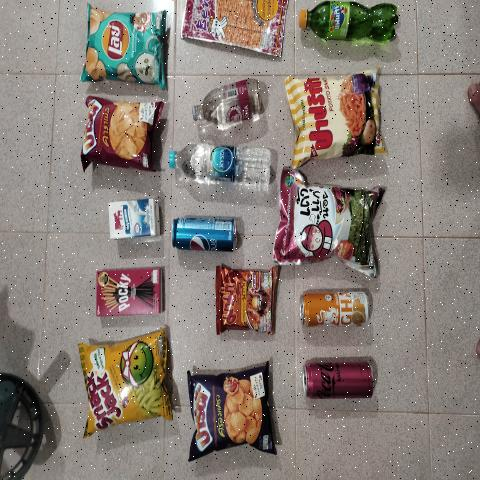bento_red: (182, 0, 288, 53)
coke_red: (302, 358, 373, 396)
crystal: (168, 141, 276, 191)
fanta_green: (299, 3, 401, 45)
lay_blue: (89, 14, 165, 76)
mama: (216, 266, 274, 330)
paprika: (291, 80, 379, 161)
party_purple: (192, 374, 270, 448)
party_red: (86, 99, 159, 167)
pepsi_blue: (170, 217, 238, 253)
pokki: (97, 272, 162, 317)
singha_soda: (190, 77, 269, 127)
singha_yellow: (300, 288, 372, 328)
snack_jack: (84, 341, 168, 414)
taokaenoi: (284, 178, 379, 270)
thai_denmark: (108, 196, 159, 244)
